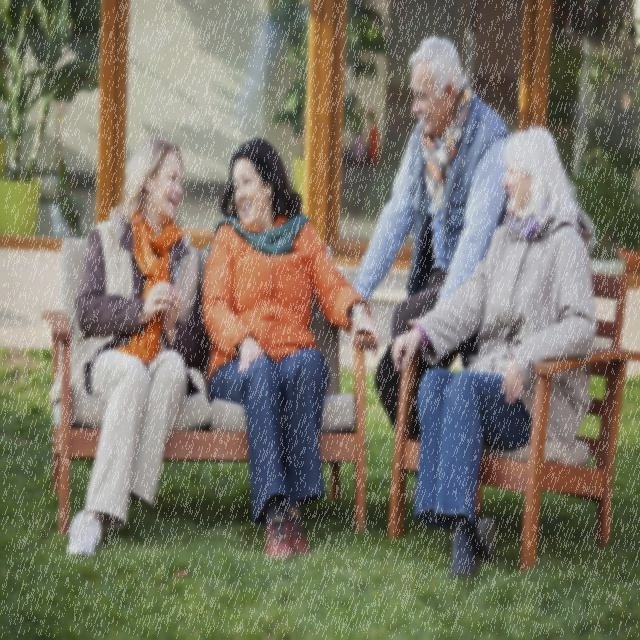pessoa: (390, 121, 598, 584), (199, 132, 383, 570), (352, 33, 512, 506), (47, 127, 212, 562)
